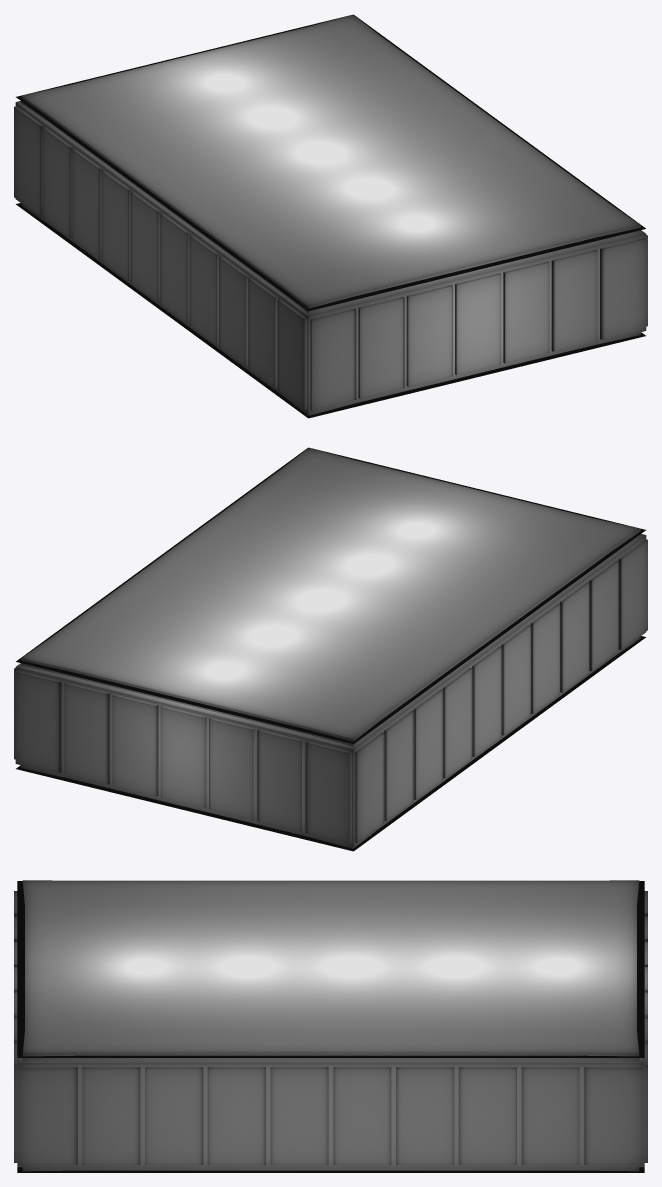
3 views of the same model, one above another, from view 1: azimuth 30°, elevation 25°; view 2: azimuth 150°, elevation 25°; view 3: azimuth 270°, elevation 25° (orthographic). The views are drawn at different scales.
Visible parts, largest first — view 1: Room; view 2: Room; view 3: Room.
Boxes of the visible parts, x1=… form: Room: x1=14, y1=14, x2=647, y2=418; Room: x1=14, y1=447, x2=647, y2=851; Room: x1=14, y1=880, x2=647, y2=1172.
Bounding box in the file's own units: 20.31 × 6.19 × 30.31.
Materials: 2 (2 with a texture image).
